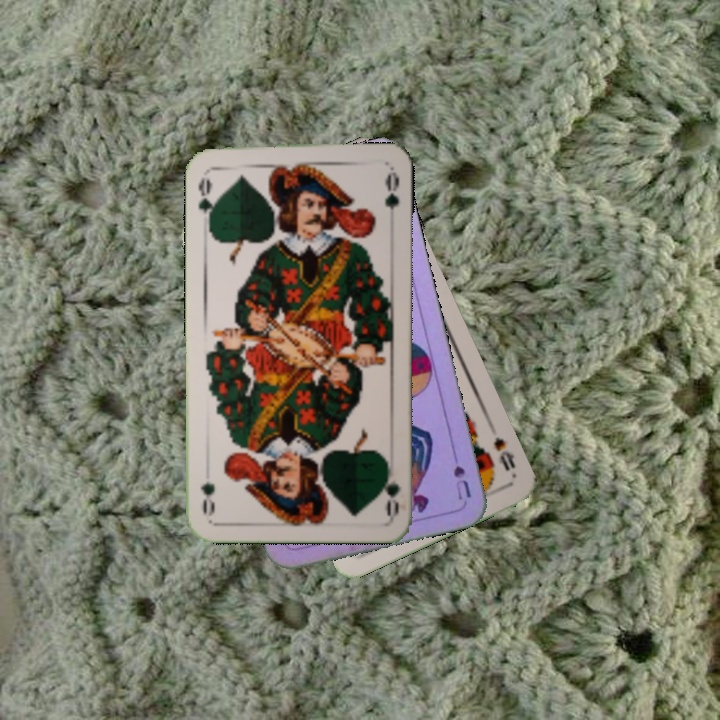GO: (378, 458, 404, 517), (194, 174, 219, 227)
S8: (490, 433, 518, 474)
SU: (447, 443, 474, 503)
